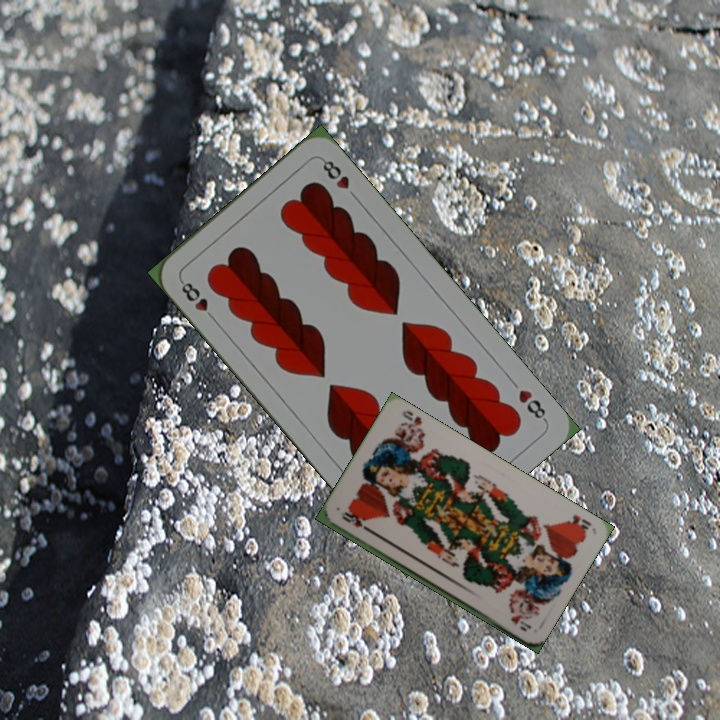H8: (176, 276, 220, 325), (514, 385, 550, 424)
HO: (560, 510, 594, 536), (338, 509, 373, 534)
